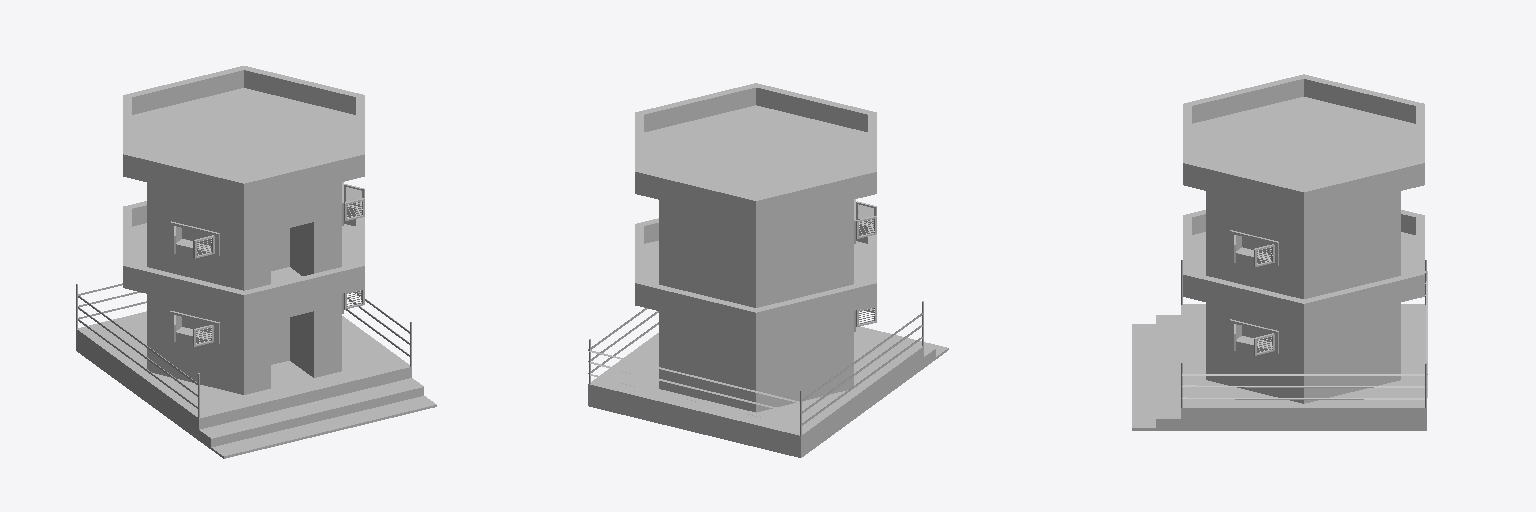
Rendered from House_2.obj.
The picture shows the model from 3 angles: view 1: azimuth 30°, elevation 25°; view 2: azimuth 150°, elevation 25°; view 3: azimuth 270°, elevation 25°; orthographic projection.
Visible parts, largest first — view 1: polySurface11; view 2: polySurface11; view 3: polySurface11.
Part boxes in pixels (x1,y1,x2,y2): polySurface11: (76,66,436,458); polySurface11: (588,83,948,457); polySurface11: (1132,74,1427,430).
Size of the model in its own units: 11.37 by 11 by 12.07.